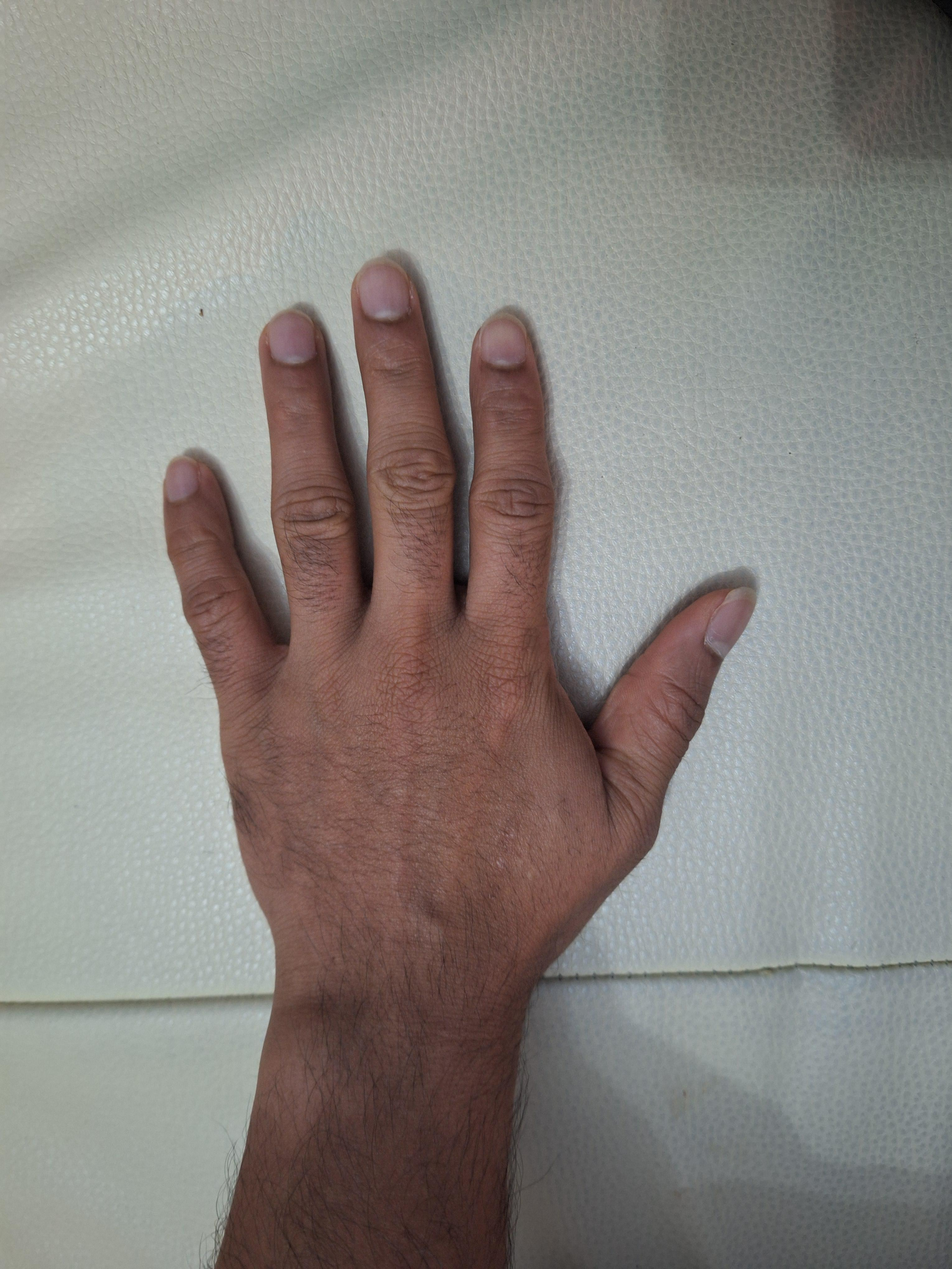Fingernail: (704, 586, 758, 659), (356, 257, 410, 318), (479, 312, 527, 367), (268, 309, 316, 362), (165, 456, 201, 503)
